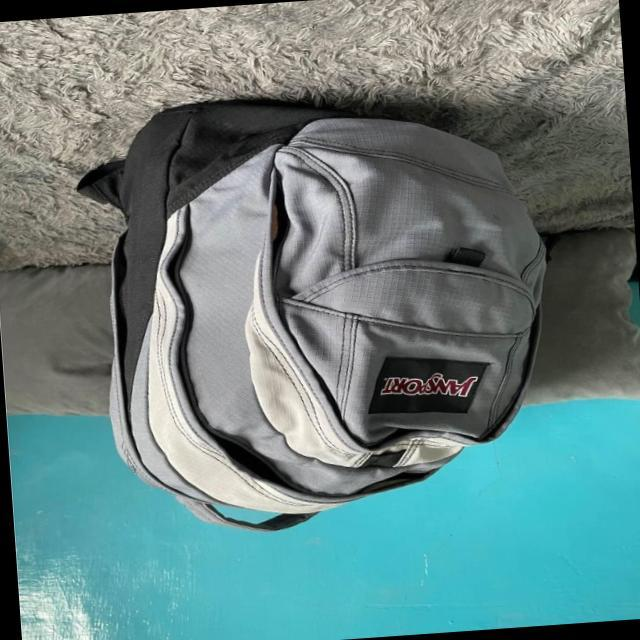bag: (97, 107, 548, 527)
